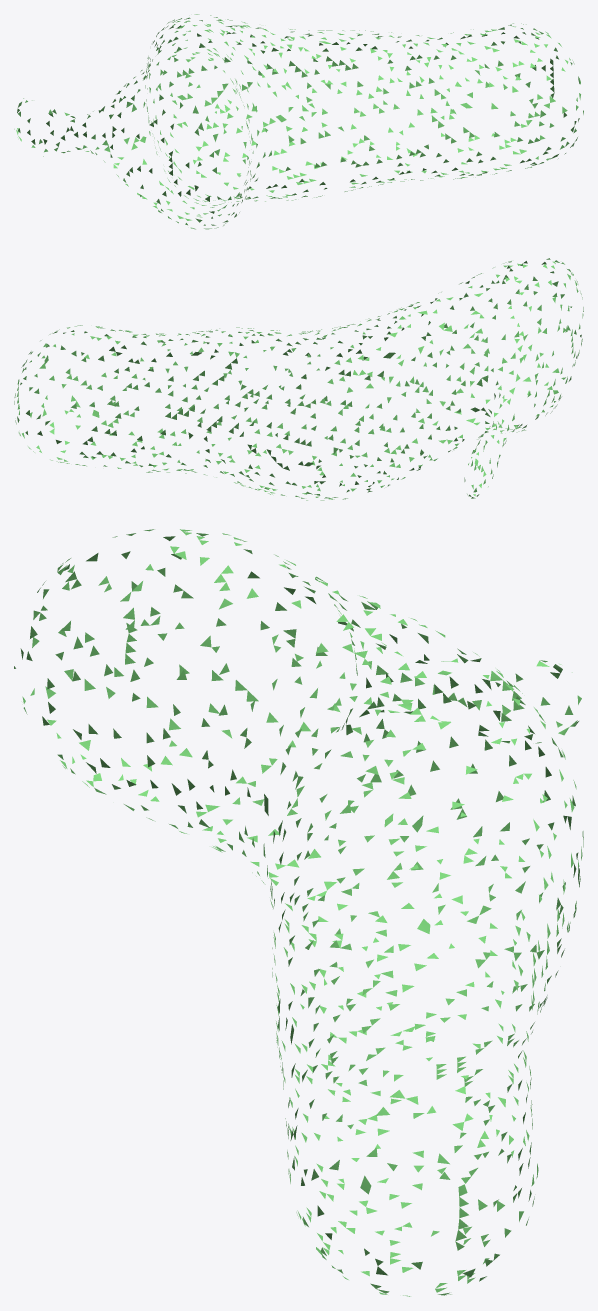
File: morph_017.glb
3 views of the same model, one above another, from view 1: azimuth 30°, elevation 25°; view 2: azimuth 150°, elevation 25°; view 3: azimuth 270°, elevation 25° (orthographic). The views are drawn at different scales.
Bounding box in the file's own units: 59.28 × 27.56 × 33.63.
